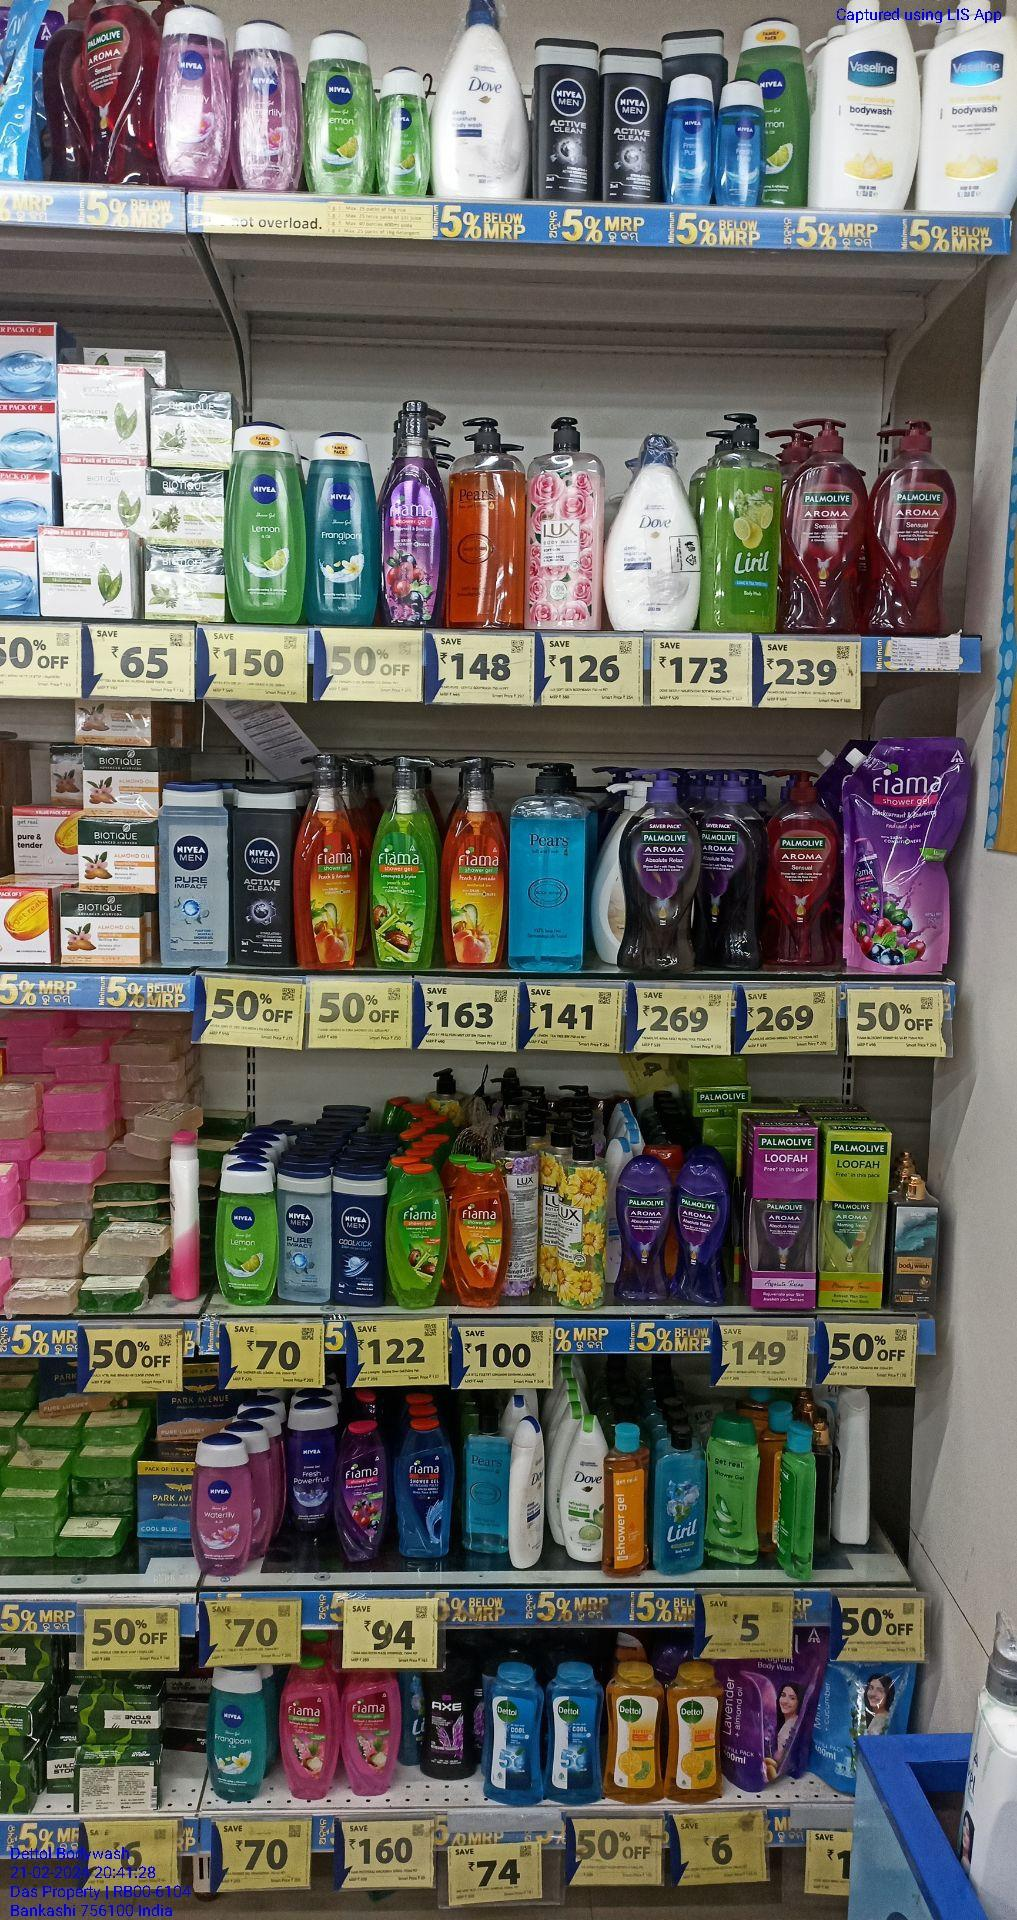Dettol_Bodywash_Cool: (481, 1663, 543, 1806), (548, 1661, 602, 1806)
Dettol_Bodywash_Refresh: (608, 1661, 664, 1801), (668, 1663, 724, 1803)
Dove_Refreshing_Body_Wash_250ML: (560, 1416, 603, 1564)
Fiama_Shower_Gel_Lemongrass_and_Jojoba_250ML: (389, 1161, 449, 1308)
Fiama_Shower_Gel_Patchouli_and_Macadamia_250ML: (279, 1663, 342, 1803), (344, 1667, 400, 1799)
Fiama_Shower_Gel_Peach_and_Avocado_250ML: (453, 1163, 513, 1304)
Liril_Cooling_Mint_Body_Wash_250ML: (654, 1429, 705, 1573)
Nivea_Shower_Gel_Frangipani_and_Oil_250ML: (312, 425, 381, 626), (208, 1669, 265, 1799)
Nivea_Shower_Gel_Fresh_Powerfruit_250ML: (289, 1397, 334, 1529)
Nivea_Shower_Gel_Lemon_and_Oil_250ML: (229, 423, 306, 626), (305, 29, 377, 192), (215, 1162, 281, 1305), (383, 69, 428, 197)
Nivea_Shower_Gel_Waterlily_and_Oil_250ML: (157, 6, 230, 185), (234, 15, 300, 189), (194, 1435, 251, 1575)
Palmolive_Aroma_Relax_250ML: (675, 1157, 733, 1305), (617, 1156, 670, 1300)
Pears_Pure_Glycerin_and_Mint_Extracts_Body_Wash_250ML: (463, 1415, 509, 1554)
